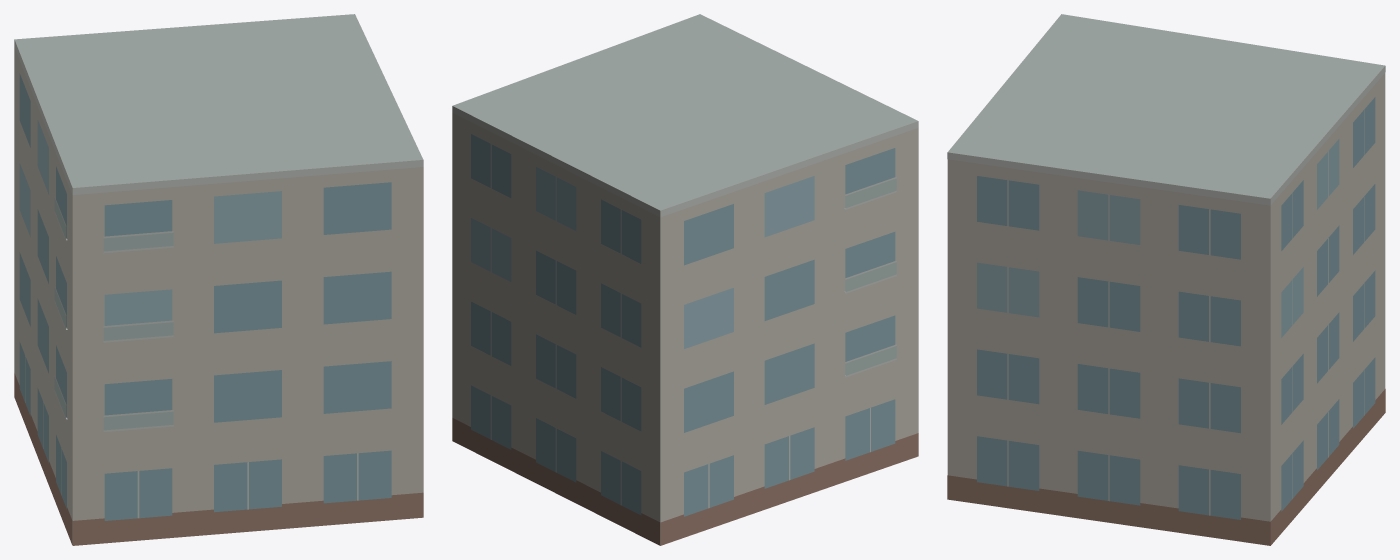
Rendered from survey-upis-32947923.glb.
3 renders of one model, left to right at view 1: azimuth 30°, elevation 25°; view 2: azimuth 150°, elevation 25°; view 3: azimuth 270°, elevation 25°, orthographic. The views are drawn at different scales.
Parts seen in each view (by area): view 1: survey-upis-32947923.tmp; view 2: survey-upis-32947923.tmp; view 3: survey-upis-32947923.tmp.
Boxes of the visible parts, <box> form: survey-upis-32947923.tmp: <box>14,14,423,545</box>; survey-upis-32947923.tmp: <box>452,14,918,545</box>; survey-upis-32947923.tmp: <box>947,14,1385,545</box>.
Size of the model in its own units: 14.16 by 12.4 by 14.19.
